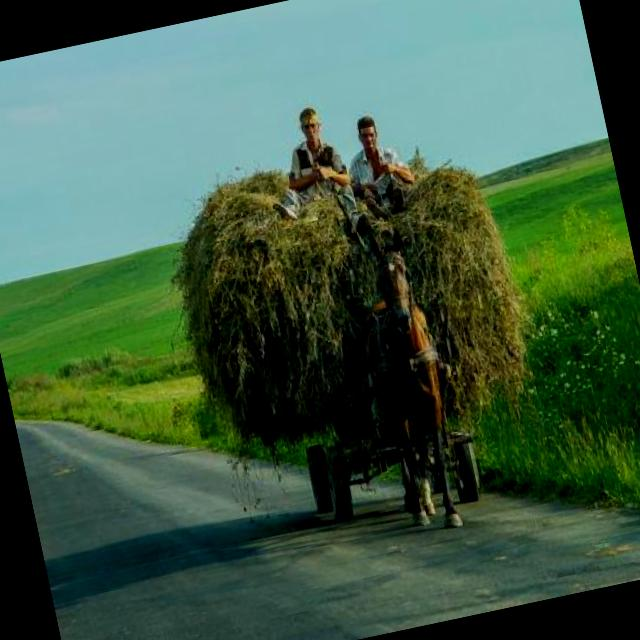Person: (255, 99, 374, 255), (336, 108, 420, 226)
